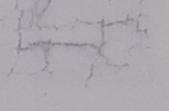retracao: (7, 0, 147, 88)
